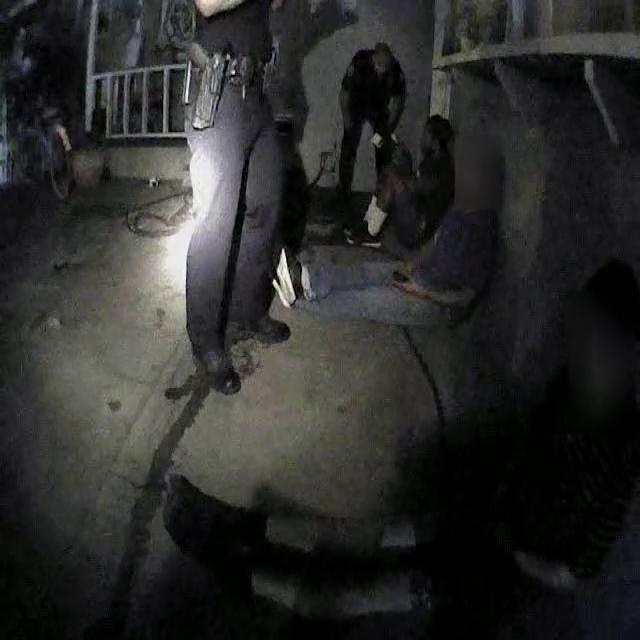gun: (175, 25, 238, 139)
